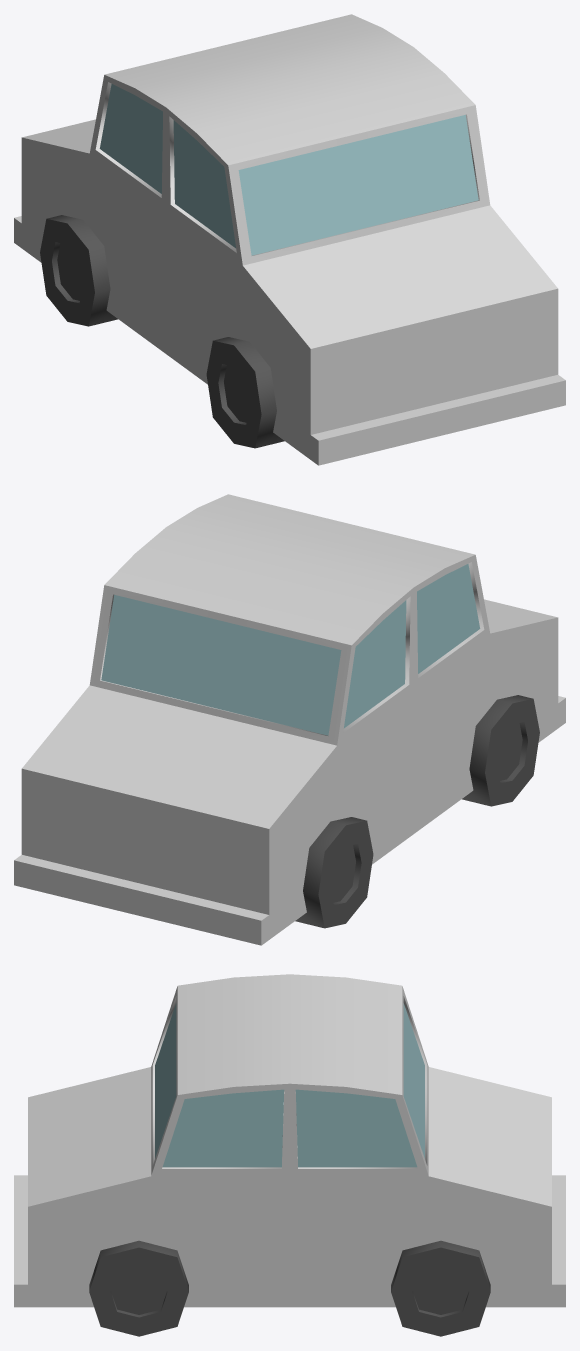
File: ObstacleCar.fbx
The picture shows the model from 3 angles, top to bottom: view 1: azimuth 30°, elevation 25°; view 2: azimuth 150°, elevation 25°; view 3: azimuth 270°, elevation 25°; orthographic projection. The views are drawn at different scales.
Parts seen in each view (by area): view 1: Obstacle_Car; view 2: Obstacle_Car; view 3: Obstacle_Car.
Boxes of the visible parts, x1,y1,x2,y2 form: Obstacle_Car: [14, 14, 565, 465]; Obstacle_Car: [14, 494, 565, 945]; Obstacle_Car: [14, 974, 565, 1336].
Bounding box in the file's own units: 181 × 169 × 344.
